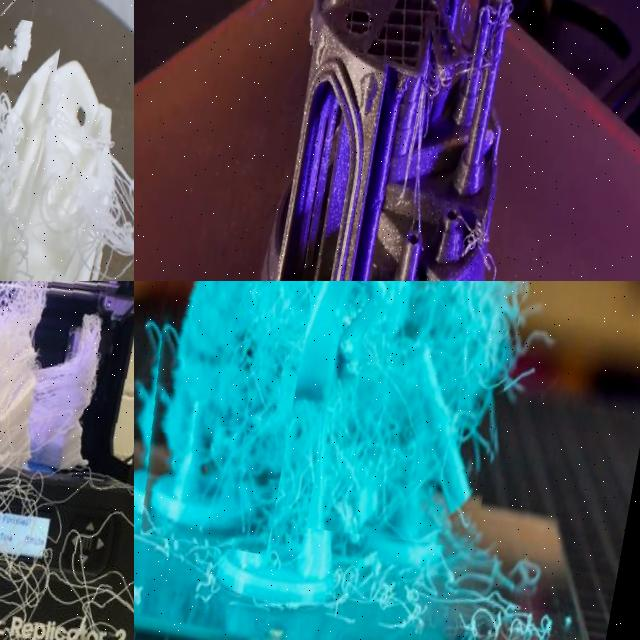spaghetti: (334, 281, 520, 541), (0, 281, 134, 640), (138, 281, 314, 546), (404, 0, 524, 118), (445, 204, 507, 281), (98, 154, 134, 281)
